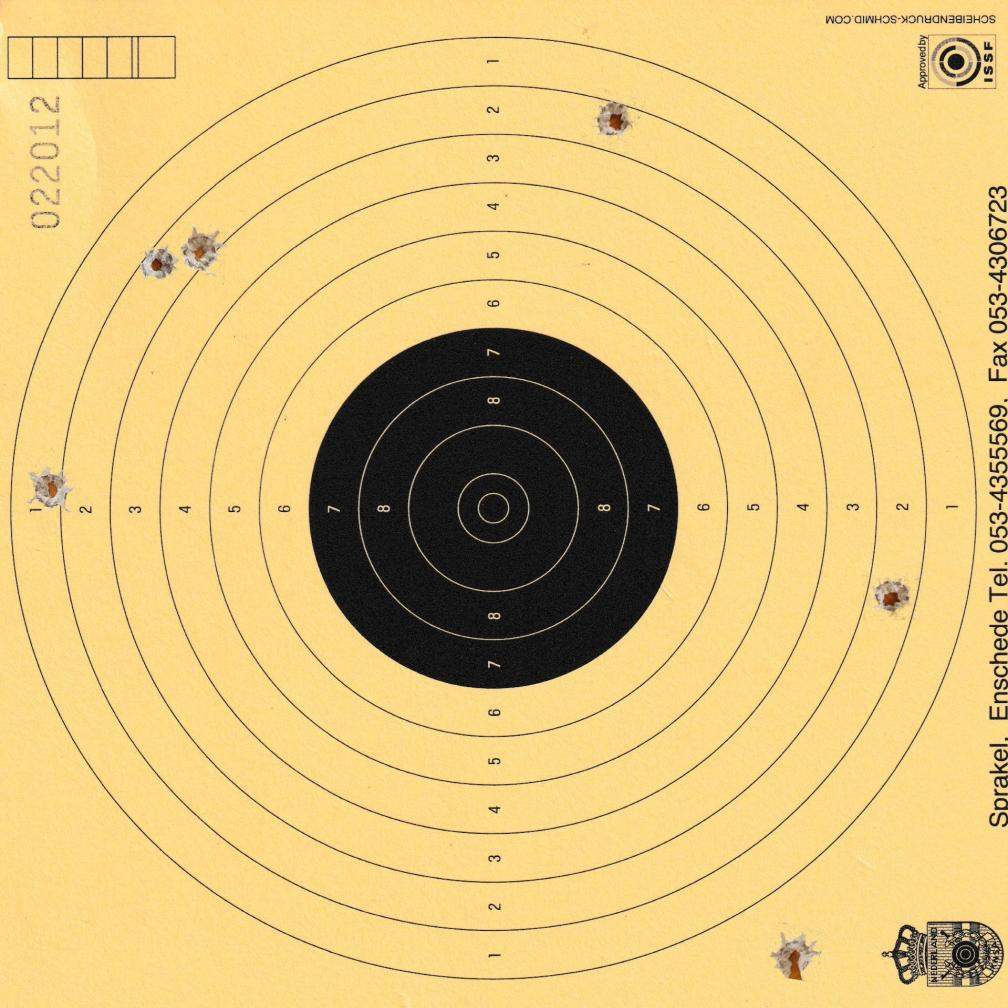0: (778, 932, 820, 978)
1: (27, 463, 70, 514)
2: (870, 578, 914, 614), (138, 243, 176, 282), (593, 104, 634, 138)
3: (177, 233, 224, 271)
Target: (11, 32, 982, 985)
black_contour: (307, 327, 681, 689)
